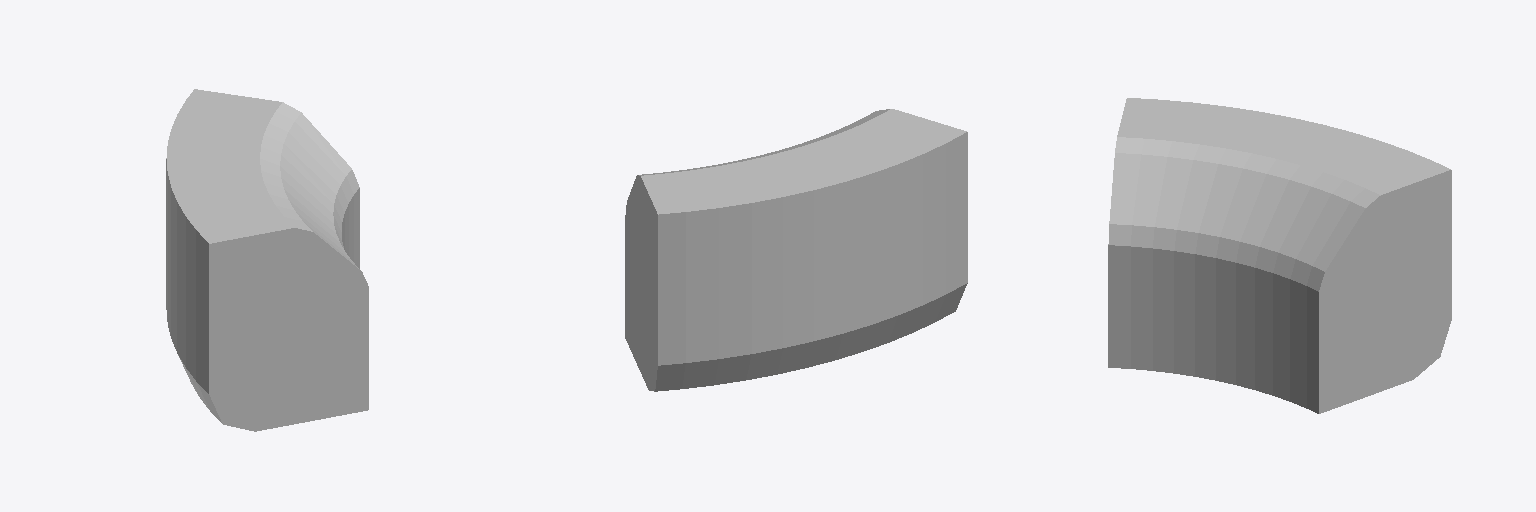
File: CircleBlock13.obj
3 renders of one model, left to right at view 1: azimuth 30°, elevation 25°; view 2: azimuth 150°, elevation 25°; view 3: azimuth 270°, elevation 25°, orthographic.
Visible parts, largest first — view 1: CircleBlock13; view 2: CircleBlock13; view 3: CircleBlock13.
Boxes of the visible parts, <box> form: CircleBlock13: <box>166,89,368,431</box>; CircleBlock13: <box>625,109,967,391</box>; CircleBlock13: <box>1108,98,1451,413</box>.
Bounding box in the file's own units: 10.01 × 7.63 × 12.08.